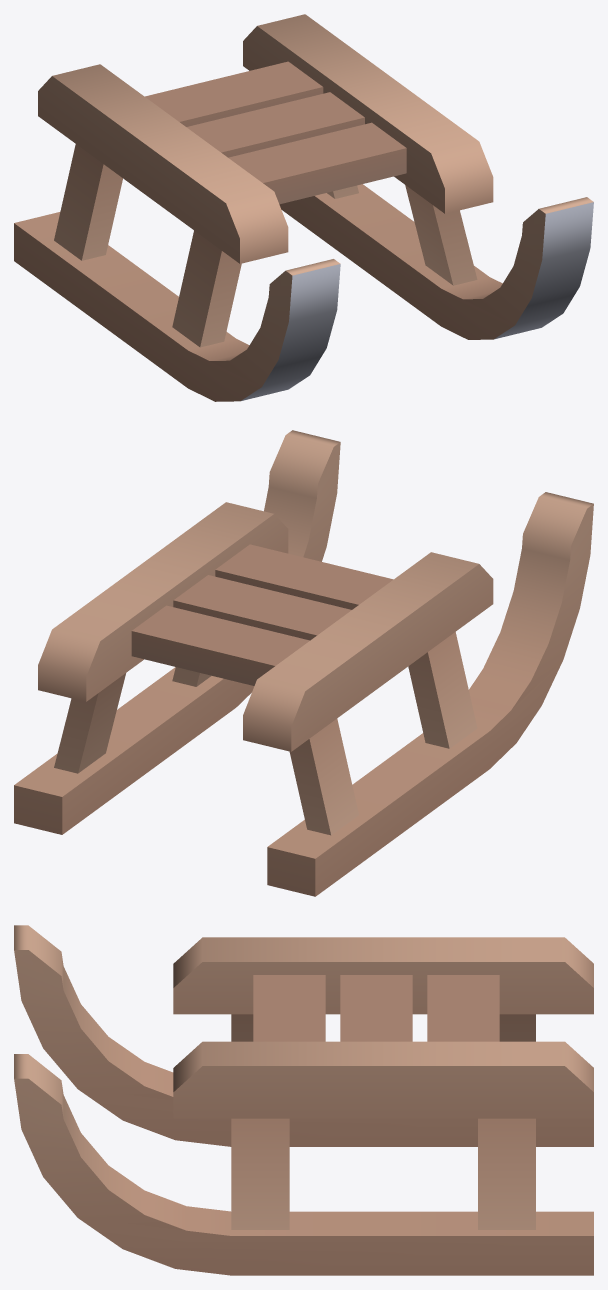
File: sled.glb
3 views of the same model, one above another, from view 1: azimuth 30°, elevation 25°; view 2: azimuth 150°, elevation 25°; view 3: azimuth 270°, elevation 25° (orthographic). The views are drawn at different scales.
Parts seen in each view (by area): view 1: sled; view 2: sled; view 3: sled.
Boxes of the visible parts, x1,y1,x2,y2 form: sled: [14, 14, 593, 401]; sled: [14, 430, 593, 896]; sled: [14, 925, 593, 1275].
Size of the model in its own units: 13.75 by 8.26 by 22.
